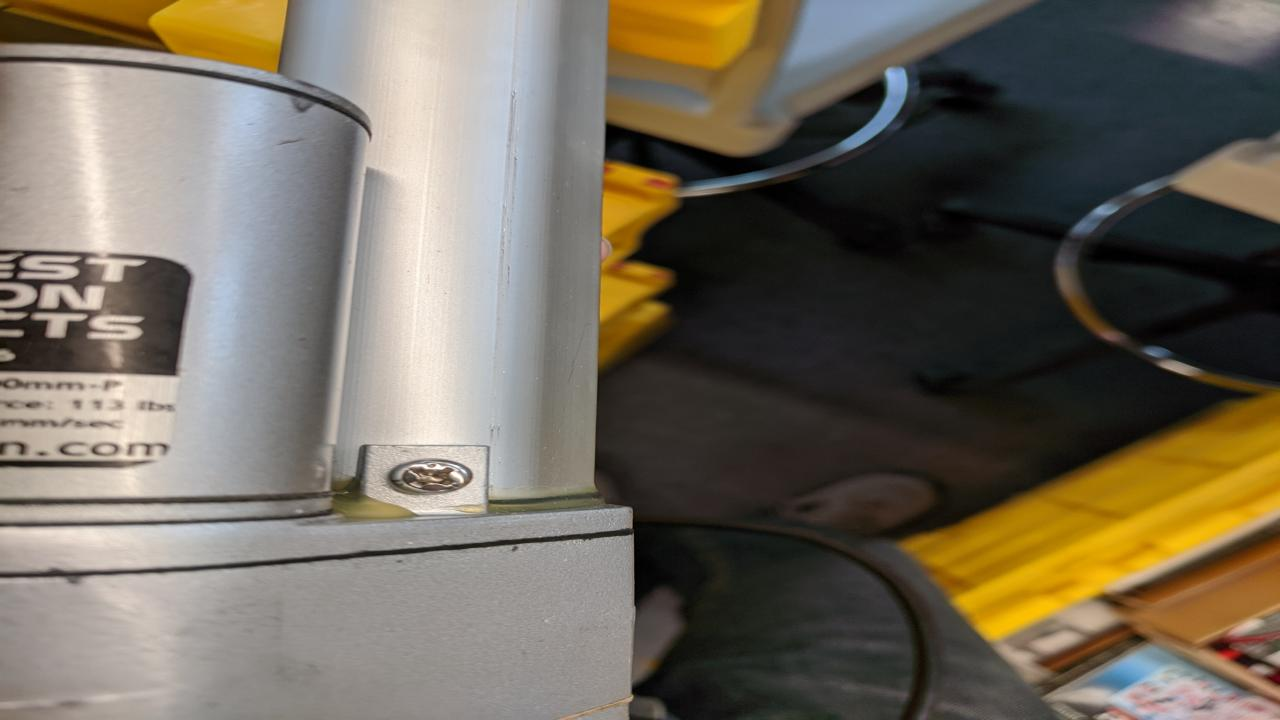CRS: (388, 459, 472, 494)
